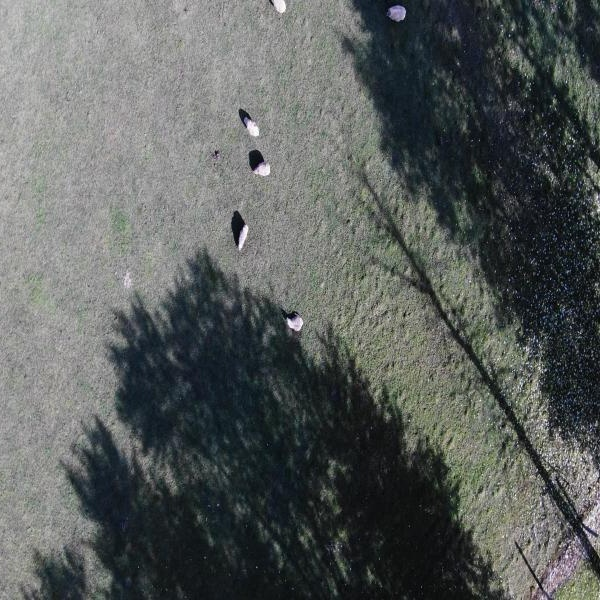sheep: (233, 213, 254, 261), (240, 105, 263, 141), (252, 151, 276, 182), (284, 308, 306, 334), (382, 1, 408, 19), (267, 0, 290, 17)
